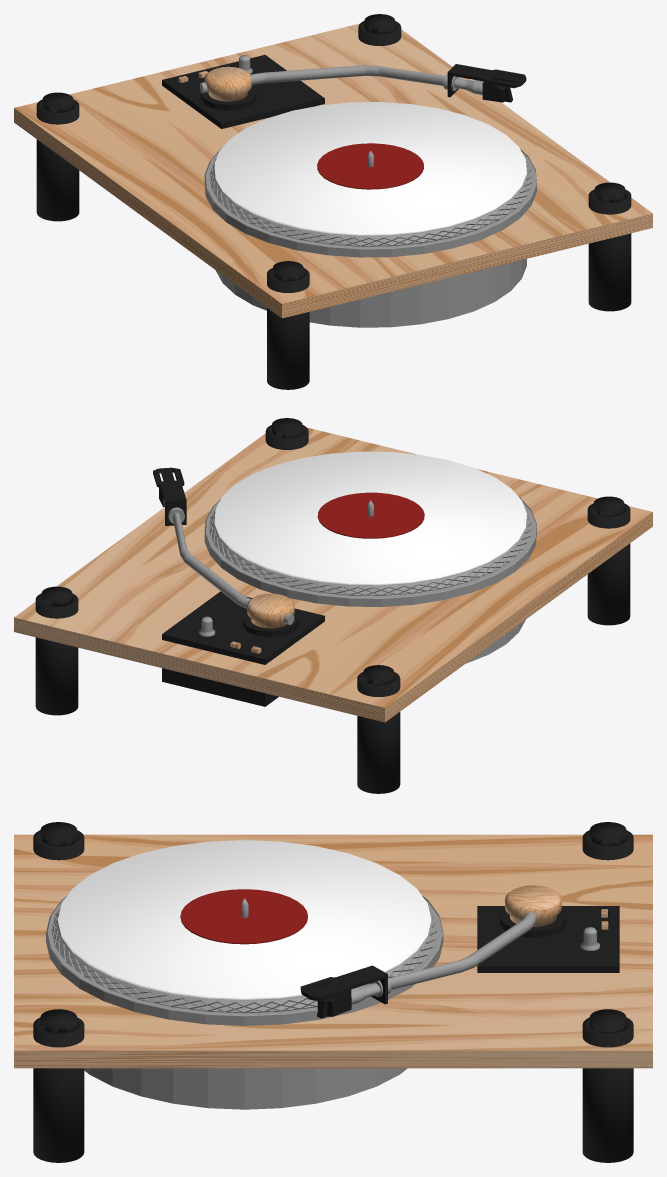
The model's file is vinylPlayer3.glb.
The picture shows the model from 3 angles, top to bottom: view 1: azimuth 30°, elevation 25°; view 2: azimuth 150°, elevation 25°; view 3: azimuth 270°, elevation 25°; orthographic projection. The views are drawn at different scales.
Visible parts, largest first — view 1: Cube, Cylinder, Cylinder.005, Cylinder.002, Cube.001, Cylinder.004, Cylinder.007, Cylinder.006, Cube.002; view 2: Cube, Cylinder, Cylinder.002, Cylinder.005, Cube.001, Cylinder.004, Cylinder.007, Cylinder.006, Cube.002; view 3: Cube, Cylinder, Cylinder.005, Cylinder.002, Cube.001, Cylinder.004, Cylinder.007, Cylinder.006, Cube.002, Cube.003.
Boxes of the visible parts, x1=… form: Cube: x1=14, y1=23, x2=652, y2=318; Cylinder: x1=214, y1=102, x2=526, y2=235; Cylinder.005: x1=204, y1=147, x2=536, y2=327; Cylinder.002: x1=36, y1=14, x2=631, y2=389; Cube.001: x1=162, y1=55, x2=324, y2=128; Cylinder.004: x1=317, y1=143, x2=423, y2=189; Cylinder.007: x1=199, y1=65, x2=458, y2=93; Cylinder.006: x1=204, y1=66, x2=251, y2=101; Cube.002: x1=447, y1=64, x2=526, y2=97; Cube: x1=14, y1=427, x2=652, y2=722; Cylinder: x1=214, y1=451, x2=526, y2=585; Cylinder.002: x1=35, y1=418, x2=630, y2=793; Cylinder.005: x1=204, y1=497, x2=536, y2=663; Cube.001: x1=162, y1=591, x2=324, y2=706; Cylinder.004: x1=317, y1=492, x2=424, y2=538; Cylinder.007: x1=168, y1=507, x2=294, y2=624; Cylinder.006: x1=247, y1=593, x2=294, y2=628; Cube.002: x1=153, y1=467, x2=186, y2=525; Cube: x1=14, y1=834, x2=652, y2=1068; Cylinder: x1=58, y1=840, x2=431, y2=999; Cylinder.005: x1=46, y1=895, x2=443, y2=1109; Cylinder.002: x1=33, y1=822, x2=633, y2=1162; Cube.001: x1=477, y1=906, x2=619, y2=972; Cylinder.004: x1=180, y1=889, x2=307, y2=944; Cylinder.007: x1=369, y1=912, x2=536, y2=997; Cylinder.006: x1=505, y1=885, x2=561, y2=926; Cube.002: x1=300, y1=965, x2=387, y2=1004; Cube.003: x1=317, y1=990, x2=351, y2=1018.
Size of the model in its own units: 0.4003 by 0.1457 by 0.5.
Materials: 5 (1 with a texture image).
